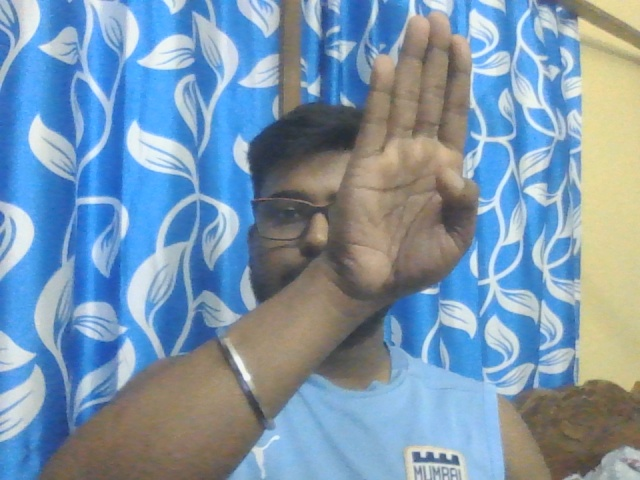B: (330, 11, 481, 299)
